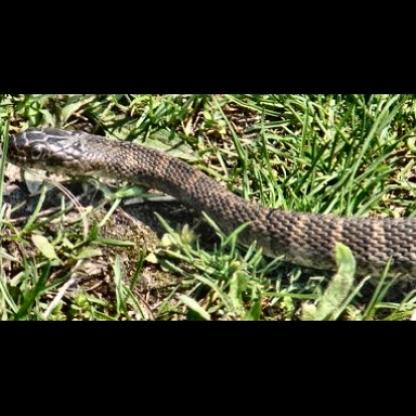Snake: (3, 122, 414, 287)
